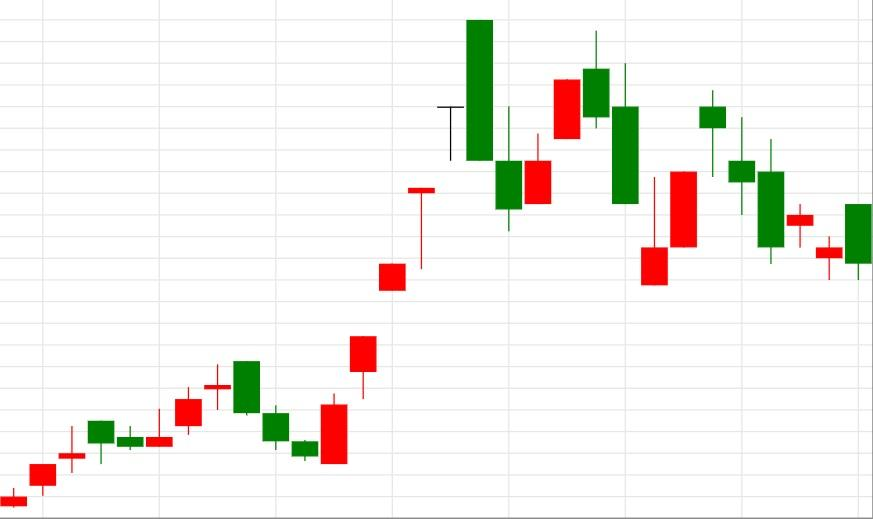bearish_engulfing_fall: (0, 360, 261, 508)
three_black_crows_fall: (0, 361, 320, 508)
three_white_soldiers_rise: (232, 262, 407, 464)
